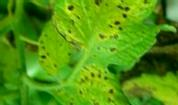Tomato Septoria leaf spot: (41, 0, 178, 105)
